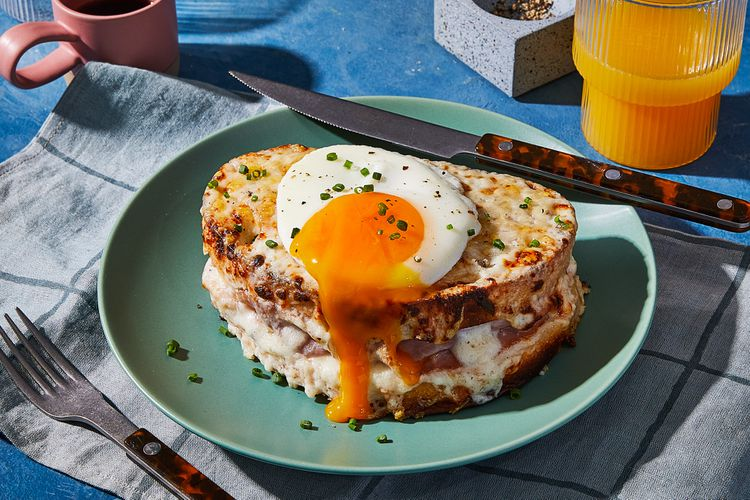Sunny Side Up: (275, 143, 482, 304)
